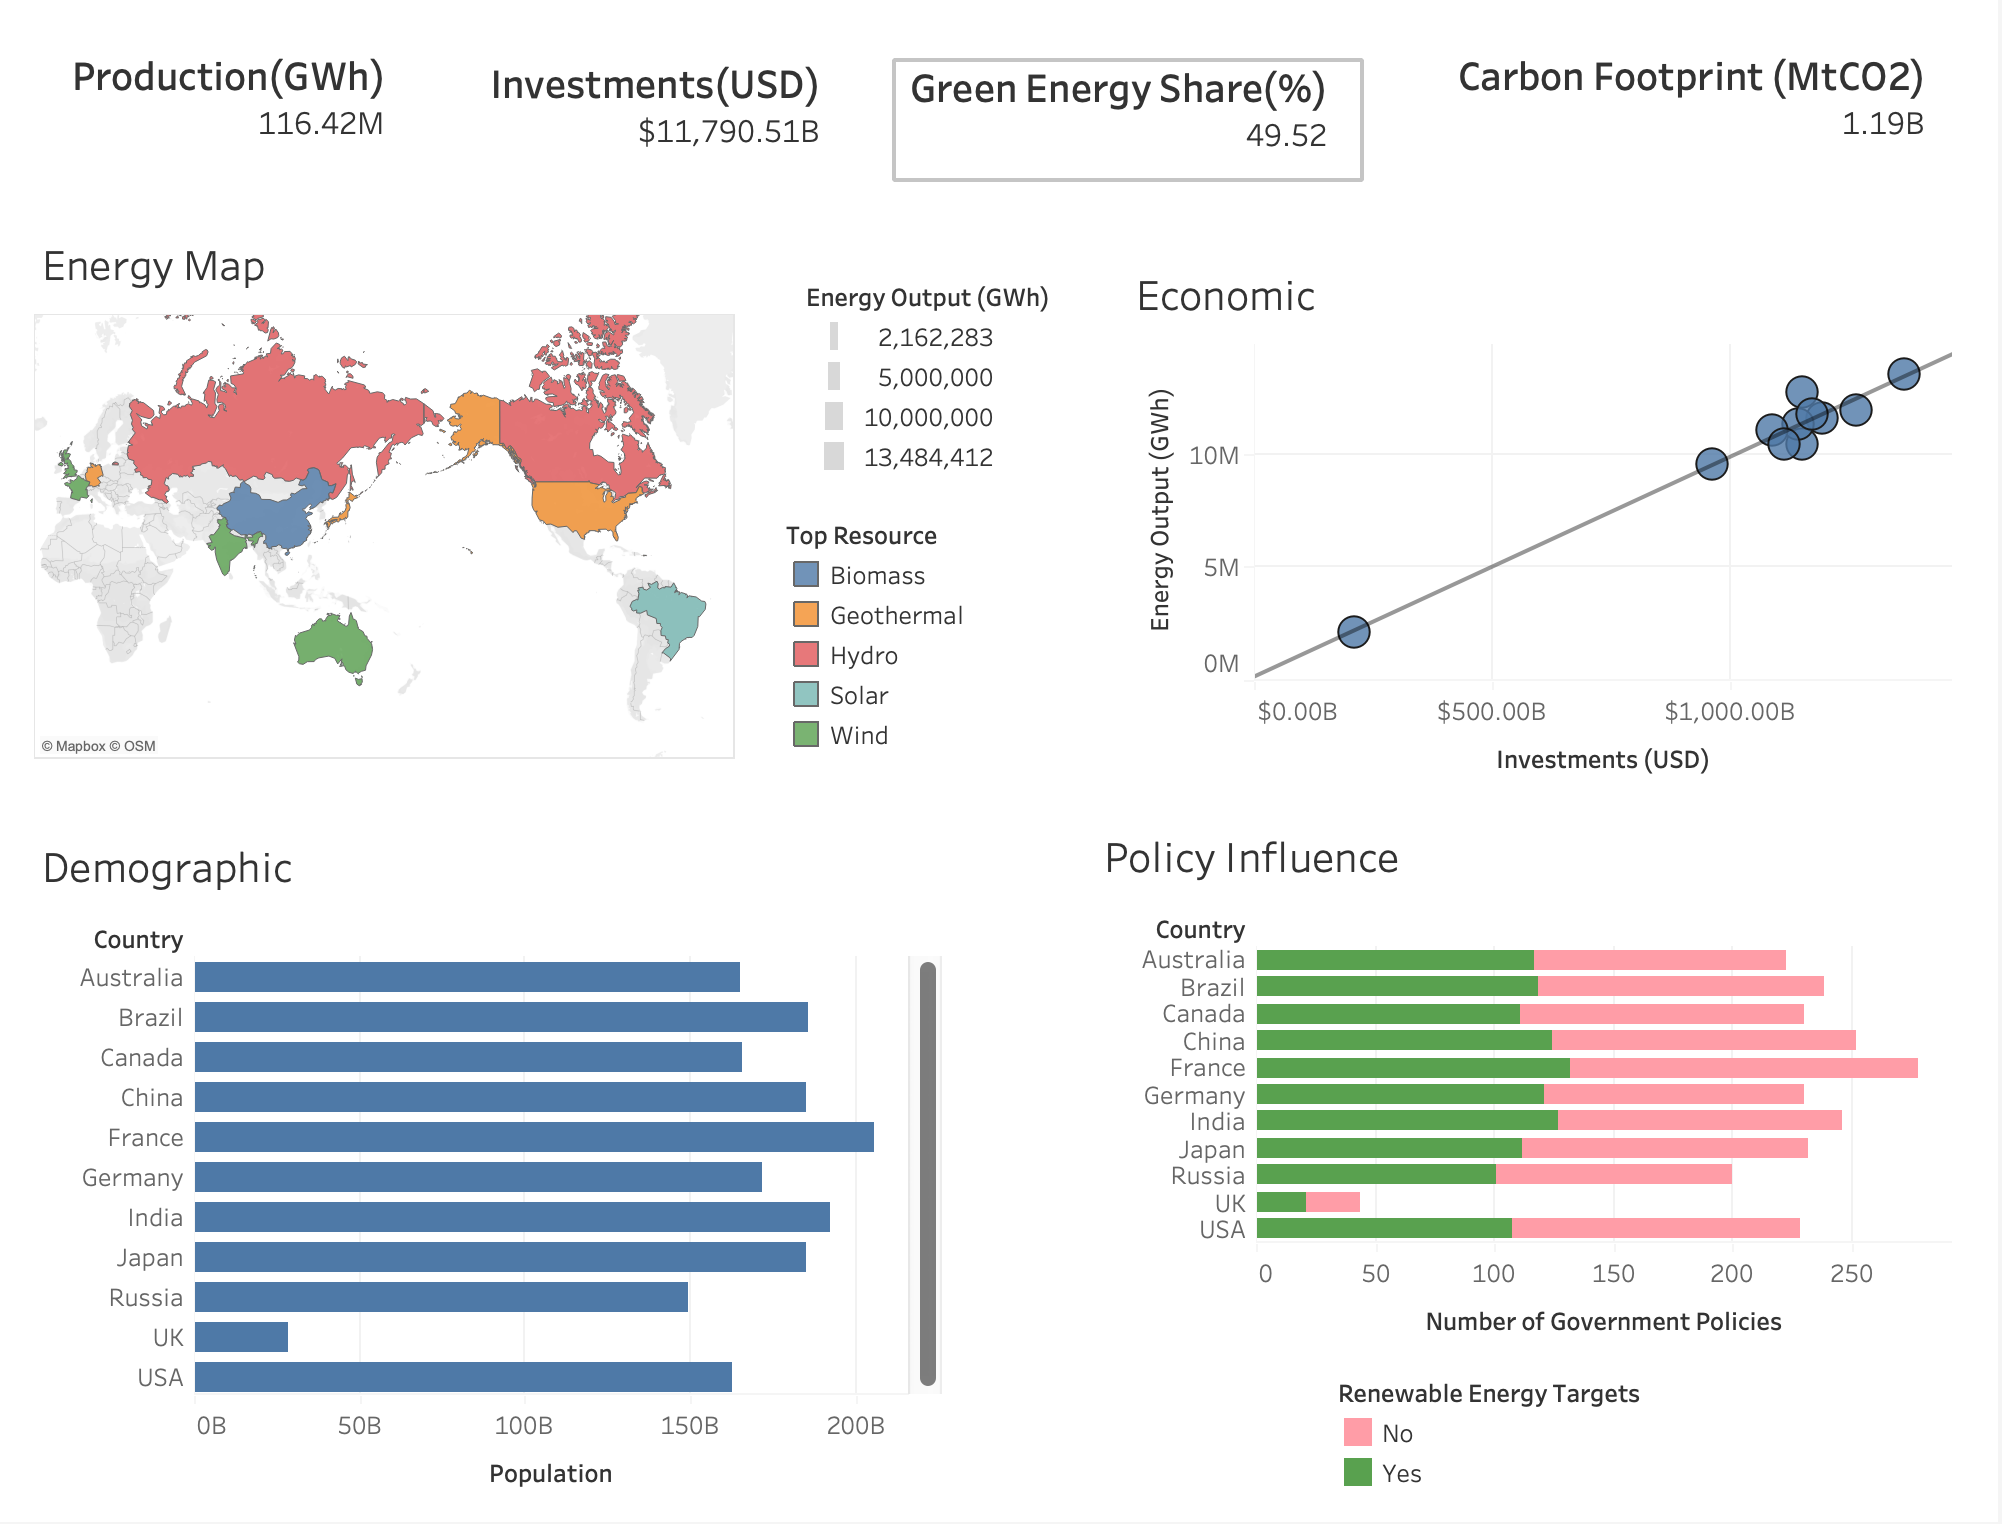

What the dashboard file says about the page in this screenshot:
{"tool":"tableau","page":{"name":"Overview Dashbaord","canvas":[1000,800],"ordinal":0},"visuals":[{"type":"worksheet","title":"Production KPI ","mark":"Automatic","box":[18,64,187,69]},{"type":"worksheet","title":"Carbon Footprint KPI","mark":"Automatic","box":[708,64,271,65]},{"type":"worksheet","title":"Investment KPI","mark":"Automatic","box":[235,68,199,64]},{"type":"worksheet","title":"Green Energy KPI","mark":"Automatic","box":[449,70,232,58]},{"type":"worksheet","title":"Energy Map","mark":"Multipolygon","box":[18,153,351,266]},{"type":"worksheet","title":"Economic","mark":"Circle","rows":["Production (GWh)"],"cols":["Investments (USD)"],"box":[565,168,412,266]},{"type":"legend","title":"Energy Map","param":"[federated.0j2h2770ne12hf11spvez0fy49n8].[sum:Production (GWh):qk]","box":[404,179,140,98]},{"type":"legend","title":"Energy Map","param":"[federated.0j2h2770ne12hf11spvez0fy49n8].[none:Calculation_0090497707368448:nk]","box":[394,298,140,118]},{"type":"worksheet","title":"Policy Influence","mark":"Automatic","rows":["Country"],"cols":["Government Policies"],"box":[549,449,428,266]},{"type":"worksheet","title":"Demographic","mark":"Automatic","rows":["Country"],"cols":["Population"],"box":[18,454,454,337]},{"type":"legend","title":"Policy Influence","param":"[federated.0j2h2770ne12hf11spvez0fy49n8].[none:Renewable Energy Targets:ok]","box":[670,727,158,58]}]}

Visuals, with their boxes on the page's 1000x800 design canvas (x1, y1, x2, y2). These are canvas units, not pixel positions in the 2002x1524 screenshot, which may show the page scaled, cropped or inside an application window:
"Production KPI " worksheet: {"x1": 18, "y1": 64, "x2": 205, "y2": 133}
"Carbon Footprint KPI" worksheet: {"x1": 708, "y1": 64, "x2": 979, "y2": 129}
"Investment KPI" worksheet: {"x1": 235, "y1": 68, "x2": 434, "y2": 132}
"Green Energy KPI" worksheet: {"x1": 449, "y1": 70, "x2": 681, "y2": 128}
"Energy Map" worksheet (Multipolygon marks): {"x1": 18, "y1": 153, "x2": 369, "y2": 419}
"Economic" worksheet (Circle marks): {"x1": 565, "y1": 168, "x2": 977, "y2": 434}
"Energy Map" legend: {"x1": 404, "y1": 179, "x2": 544, "y2": 277}
"Energy Map" legend: {"x1": 394, "y1": 298, "x2": 534, "y2": 416}
"Policy Influence" worksheet: {"x1": 549, "y1": 449, "x2": 977, "y2": 715}
"Demographic" worksheet: {"x1": 18, "y1": 454, "x2": 472, "y2": 791}
"Policy Influence" legend: {"x1": 670, "y1": 727, "x2": 828, "y2": 785}
